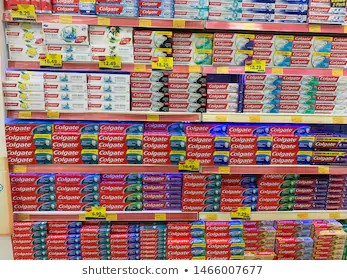colgate-family: (51, 131, 96, 149), (99, 132, 144, 150), (140, 132, 185, 150), (185, 134, 230, 152), (229, 135, 274, 153), (270, 134, 315, 152), (6, 133, 51, 151), (41, 24, 86, 42), (89, 25, 134, 43), (1, 25, 46, 43), (132, 28, 177, 46), (131, 44, 176, 62), (169, 32, 214, 50), (167, 49, 212, 67), (210, 49, 255, 67), (211, 33, 256, 51), (253, 34, 298, 52), (252, 48, 297, 66), (289, 34, 334, 52), (287, 47, 332, 65), (163, 241, 205, 260), (203, 241, 245, 258), (164, 223, 205, 238), (202, 222, 243, 237)
colgate-medium: (55, 172, 102, 183), (87, 85, 129, 97), (1, 101, 46, 112), (44, 71, 87, 82), (56, 185, 99, 196), (10, 174, 53, 185), (10, 200, 53, 211), (9, 180, 52, 191), (7, 189, 50, 200), (87, 74, 129, 85), (44, 92, 89, 102), (89, 101, 129, 112), (2, 91, 45, 101), (44, 82, 87, 92), (4, 80, 44, 90), (277, 84, 315, 94), (180, 201, 218, 211), (278, 72, 316, 82), (181, 189, 219, 199), (181, 178, 219, 188), (221, 176, 259, 186), (220, 186, 258, 196), (218, 194, 256, 204), (220, 203, 258, 213), (259, 201, 297, 211), (256, 181, 294, 191), (255, 190, 293, 200), (141, 200, 179, 210), (143, 183, 181, 193), (141, 176, 179, 186), (102, 174, 140, 184), (100, 184, 138, 194), (98, 194, 136, 204), (99, 201, 137, 211), (52, 199, 90, 209), (47, 102, 89, 111), (131, 71, 168, 81), (132, 81, 168, 91), (132, 91, 168, 101), (169, 73, 205, 83), (169, 100, 205, 110), (132, 102, 168, 112), (3, 71, 44, 79), (168, 91, 204, 100), (169, 82, 205, 91), (207, 82, 243, 91), (205, 103, 241, 112), (207, 92, 243, 101), (243, 73, 279, 82), (243, 83, 279, 92), (243, 92, 279, 101), (241, 104, 277, 113), (278, 93, 314, 102), (276, 101, 312, 110), (89, 93, 129, 101)
